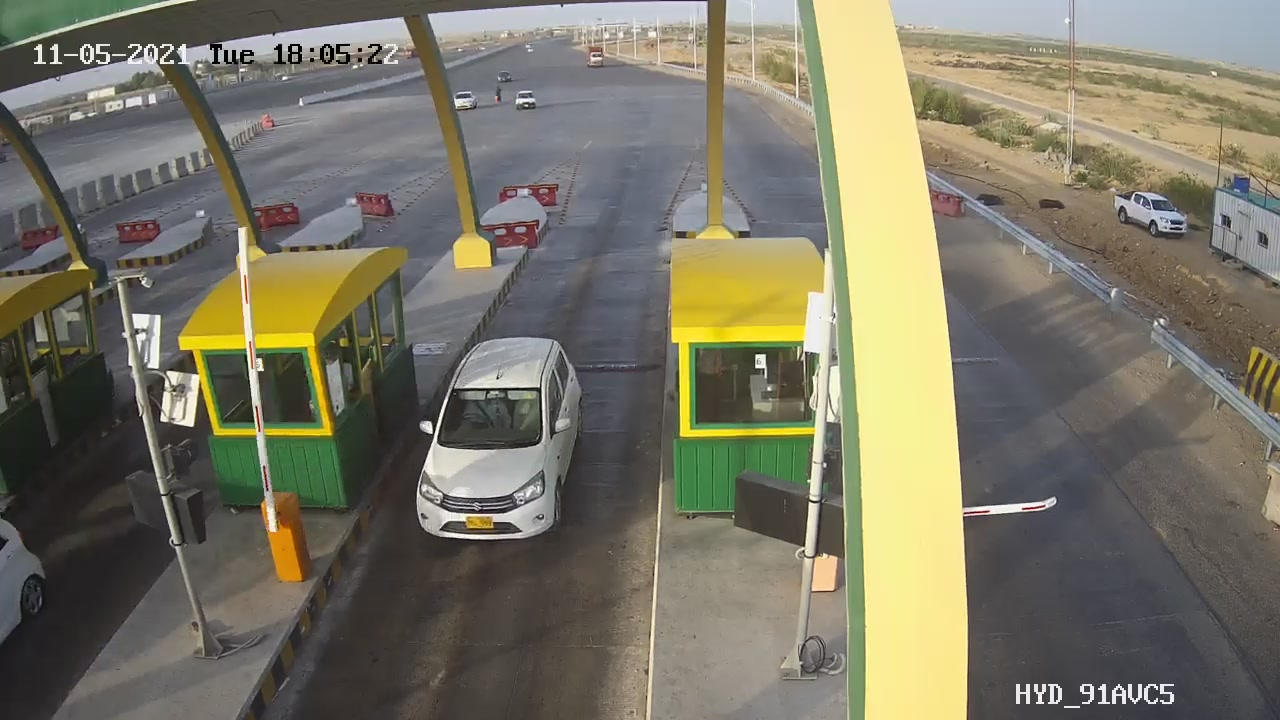F1: (386, 300, 620, 572)
